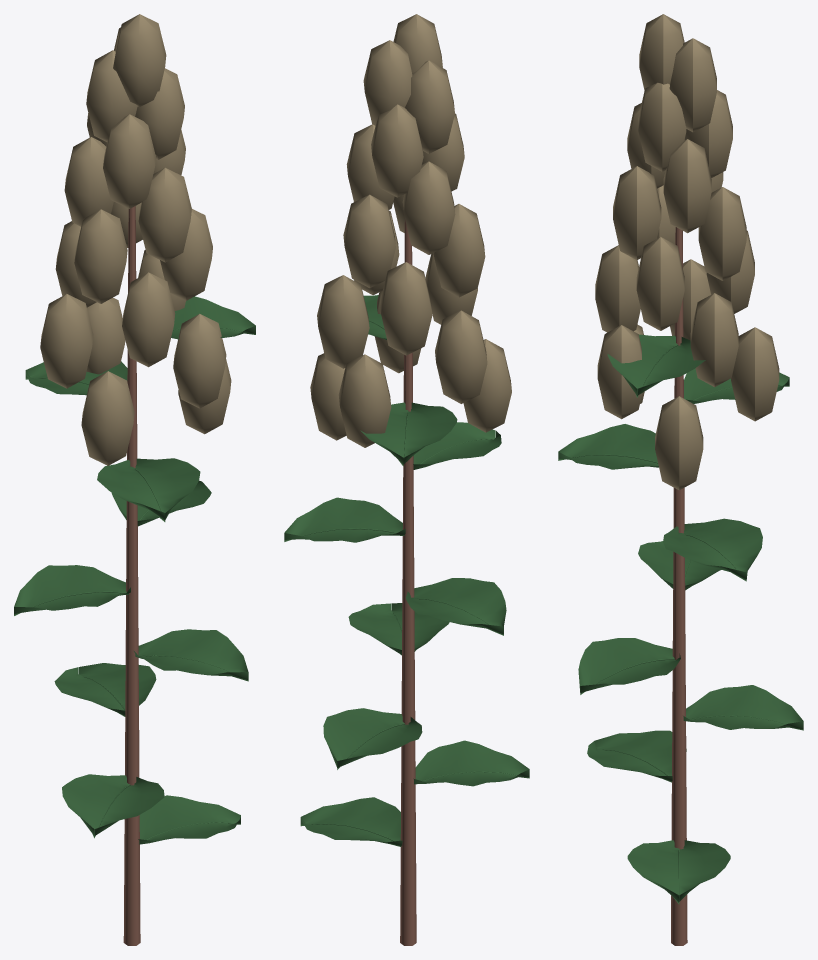
Rendered from quinua.glb.
3 views of the same model, side by side, from view 1: azimuth 30°, elevation 25°; view 2: azimuth 150°, elevation 25°; view 3: azimuth 270°, elevation 25° (orthographic).
Parts seen in each view (by area): view 1: quinua; view 2: quinua; view 3: quinua.
Part boxes in pixels (x1,y1,x2,y2): quinua: [14, 14, 255, 945]; quinua: [284, 14, 529, 945]; quinua: [558, 14, 803, 945].
Bounding box in the file's own units: 0.3574 × 1.48 × 0.3535.
